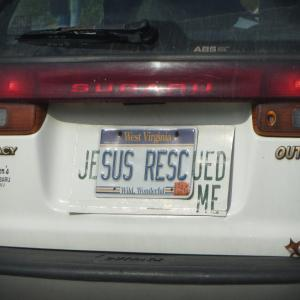Vehicle-registration-plate: (94, 126, 200, 201)
